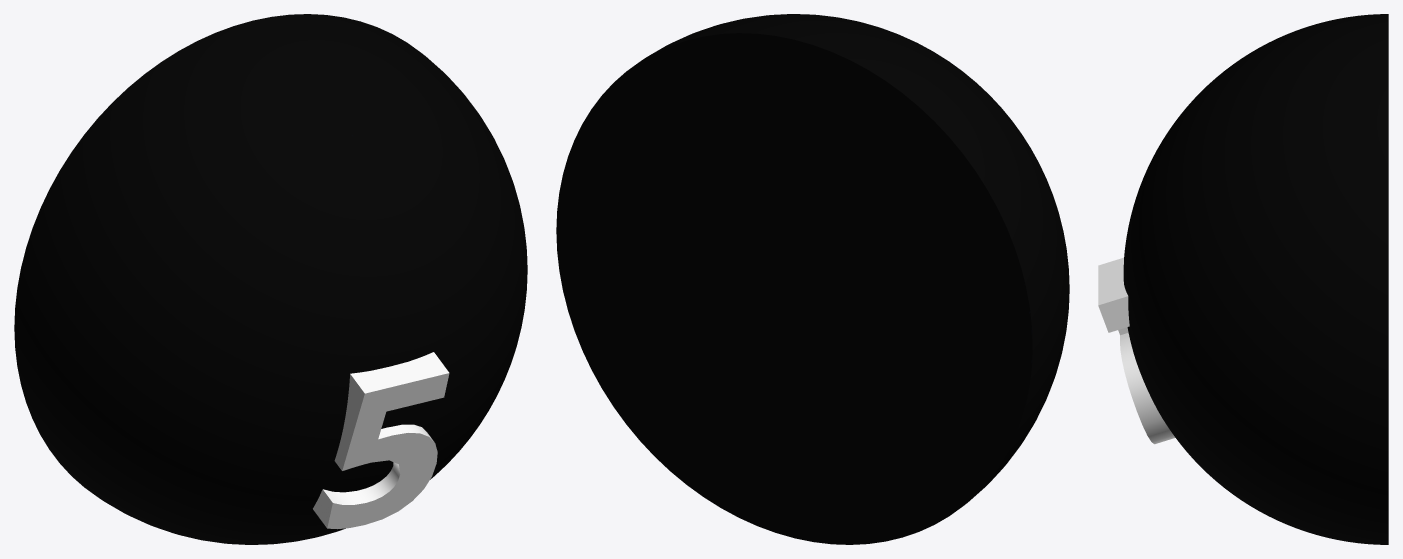
The model's file is button5.fbx.
The picture shows the model from 3 angles, left to right: view 1: azimuth 30°, elevation 25°; view 2: azimuth 150°, elevation 25°; view 3: azimuth 270°, elevation 25°; orthographic projection. The views are drawn at different scales.
Parts seen in each view (by area): view 1: root, node_id283; view 2: root; view 3: root, node_id283.
Part boxes in pixels (<box>): root: <box>14,14,527,544</box>; node_id283: <box>313,352,449,529</box>; root: <box>556,14,1069,544</box>; root: <box>1123,14,1388,544</box>; node_id283: <box>1098,257,1175,444</box>.
Bounding box in the file's own units: 0.4739 × 0.4739 × 0.2593.
Materials: 2 (2 with a texture image).
